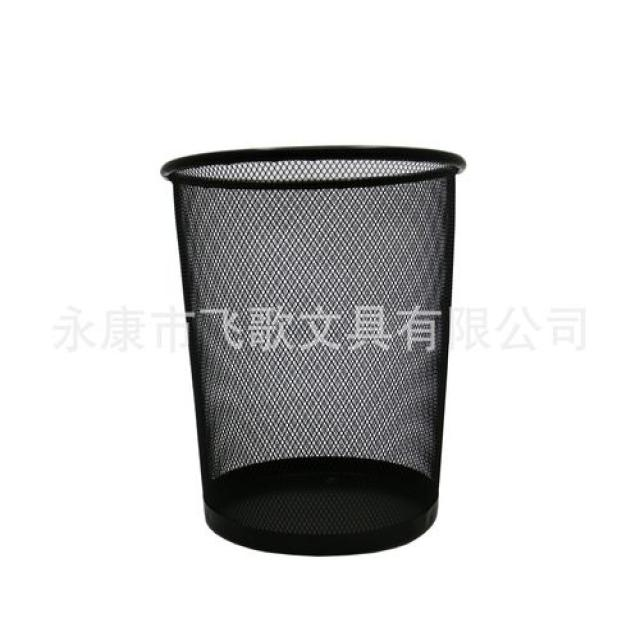dustbin: (154, 136, 476, 563)
